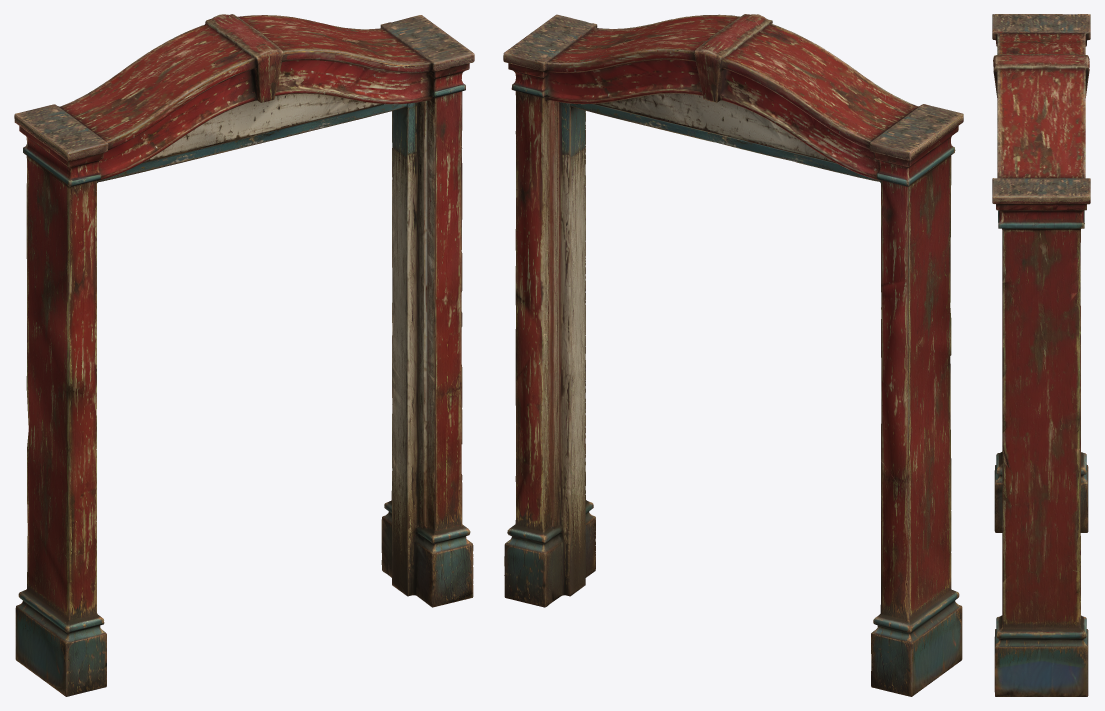
The model's file is Meshy_AI_Weathered_Archway_0508020546_texture.fbx.
The picture shows the model from 3 angles, left to right: view 1: azimuth 30°, elevation 25°; view 2: azimuth 150°, elevation 25°; view 3: azimuth 270°, elevation 25°; orthographic projection. The views are drawn at different scales.
Parts seen in each view (by area): view 1: Mesh_0; view 2: Mesh_0; view 3: Mesh_0.
Part boxes in pixels (<box>): Mesh_0: <box>14,14,474,696</box>; Mesh_0: <box>503,14,963,696</box>; Mesh_0: <box>992,14,1090,696</box>.
Size of the model in its own units: 137 by 191 by 31.12.
Materials: 1 (1 with a texture image).
